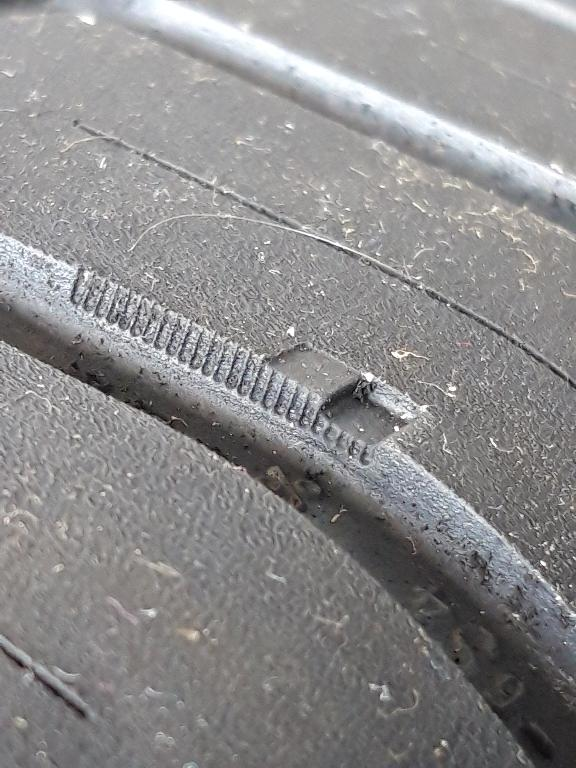temoin:25: (244, 339, 436, 478)
